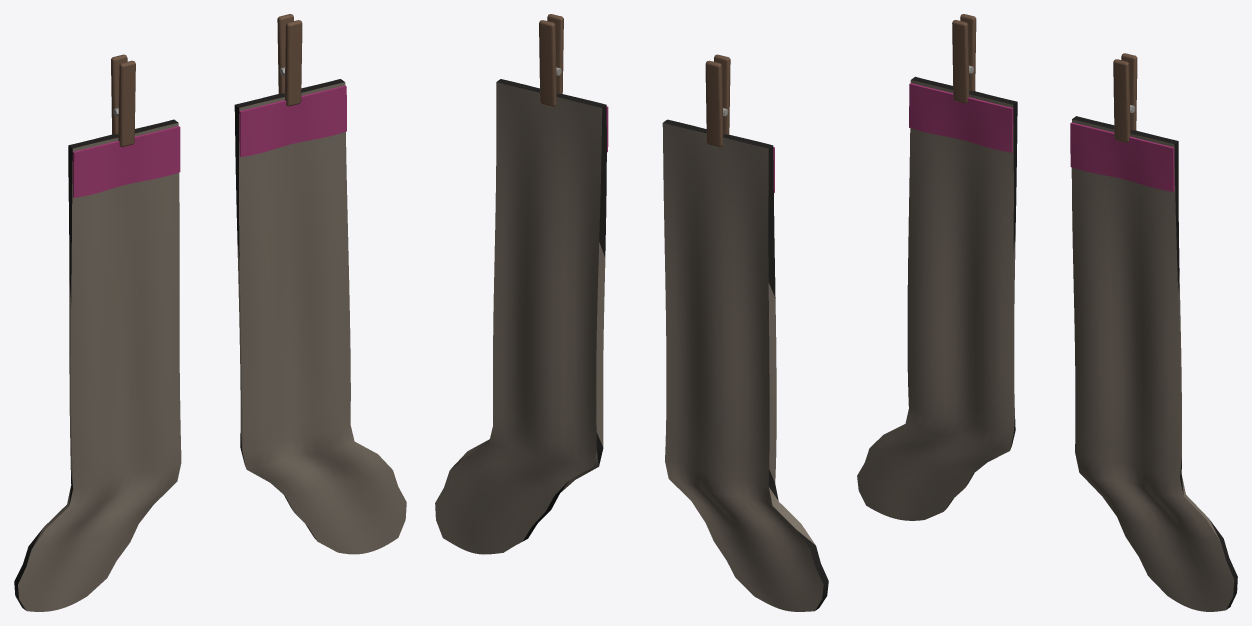
File: socks-line-vibe-e12515b33d64.glb
3 views of the same model, side by side, from view 1: azimuth 30°, elevation 25°; view 2: azimuth 150°, elevation 25°; view 3: azimuth 330°, elevation 25° (orthographic). The views are drawn at different scales.
Visible parts, largest first — view 1: cover-cloth, accent-magenta, wood, rubber; view 2: cover-cloth, wood, rubber; view 3: cover-cloth, accent-magenta, wood, rubber.
Boxes of the visible parts, left/top/right/bottom form: cover-cloth: left=18, top=82, right=406, bottom=611; accent-magenta: left=72, top=85, right=346, bottom=197; wood: left=111, top=14, right=302, bottom=147; rubber: left=14, top=79, right=344, bottom=610; cover-cloth: left=435, top=82, right=823, bottom=611; wood: left=539, top=14, right=730, bottom=147; rubber: left=450, top=79, right=828, bottom=610; cover-cloth: left=857, top=80, right=1234, bottom=611; accent-magenta: left=909, top=83, right=1174, bottom=191; wood: left=952, top=14, right=1137, bottom=142; rubber: left=911, top=76, right=1237, bottom=609.
Bounding box in the file's own units: 0.2618 × 0.354 × 0.014.
